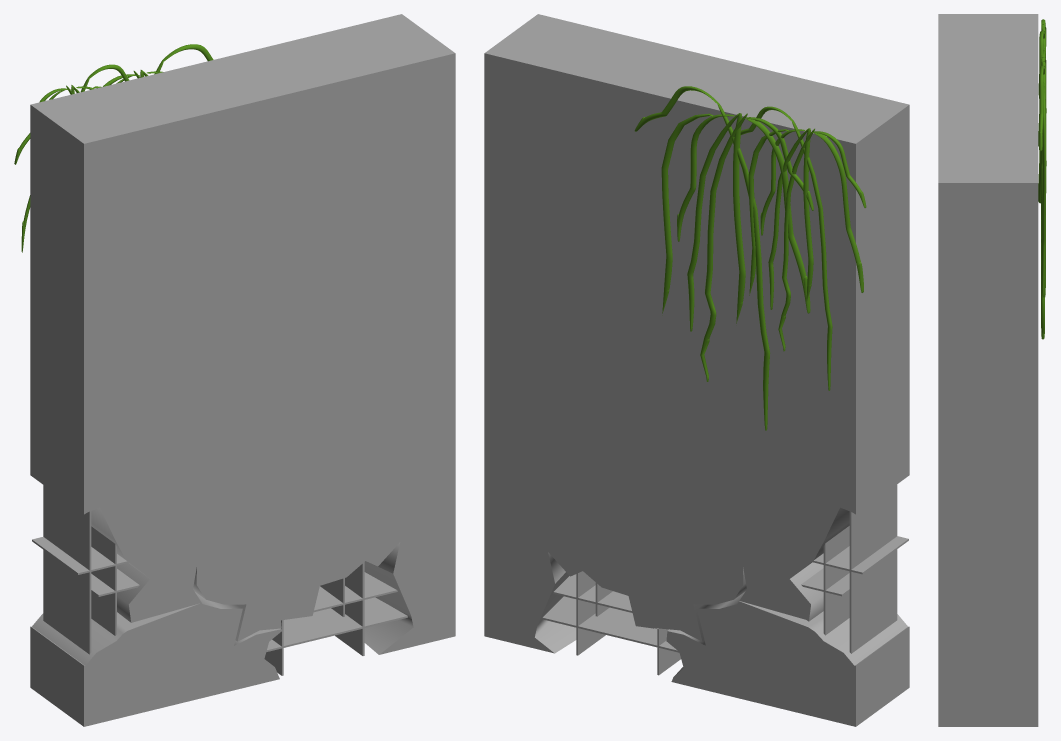
Rendered from b_wallbgcrack_tutorial_8x12x2.fbx.
The picture shows the model from 3 angles, left to right: view 1: azimuth 30°, elevation 25°; view 2: azimuth 150°, elevation 25°; view 3: azimuth 270°, elevation 25°; orthographic projection. The views are drawn at different scales.
Parts seen in each view (by area): view 1: wall_bgcrak8122, glow_pipe, glow_pipe_2, vine; view 2: wall_bgcrak8122, vine, glow_pipe, glow_pipe_2; view 3: wall_bgcrak8122, vine.
Part boxes in pixels (x1=…): wall_bgcrak8122: x1=30, y1=14, x2=455, y2=726; glow_pipe: x1=32, y1=485, x2=139, y2=654; glow_pipe_2: x1=264, y1=562, x2=407, y2=675; vine: x1=14, y1=44, x2=213, y2=252; wall_bgcrak8122: x1=484, y1=14, x2=909, y2=726; vine: x1=634, y1=86, x2=866, y2=430; glow_pipe: x1=801, y1=484, x2=908, y2=653; glow_pipe_2: x1=542, y1=571, x2=680, y2=675; wall_bgcrak8122: x1=938, y1=14, x2=1038, y2=726; vine: x1=1038, y1=19, x2=1046, y2=339.
Bounding box in the file's own units: 8.27 × 12.41 × 2.16.
